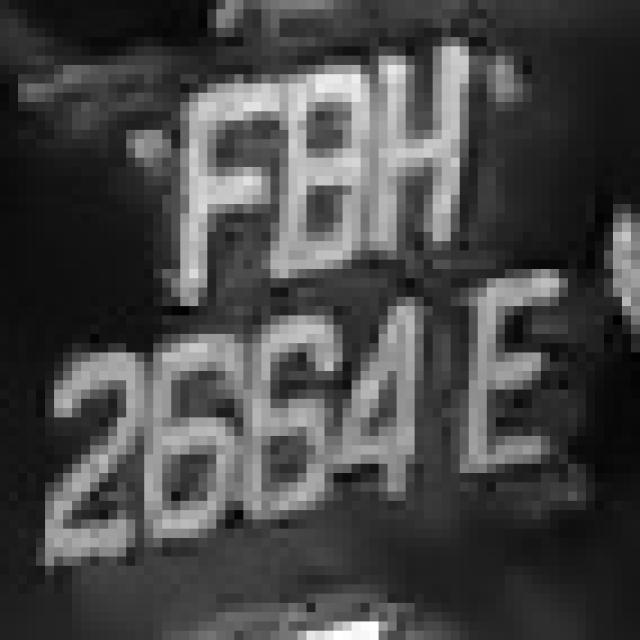2: (36, 334, 153, 575)
4: (324, 288, 432, 520)
6: (244, 288, 342, 538), (136, 325, 244, 547)
B: (252, 37, 360, 278)
E: (469, 259, 577, 492)
F: (144, 65, 280, 306)
H: (352, 19, 496, 269)
